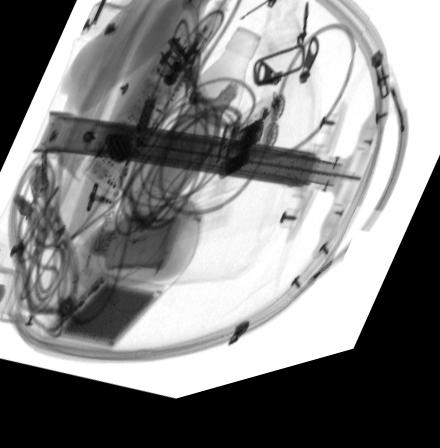Powerbank: (48, 276, 165, 354)
